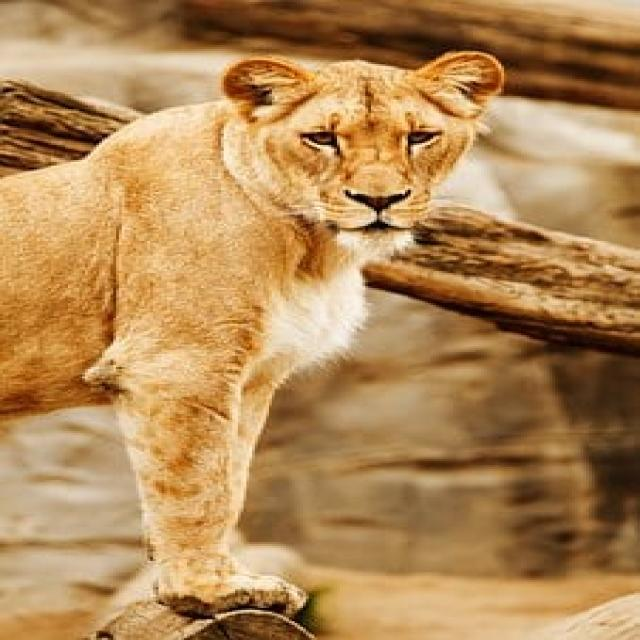Lion: (1, 52, 509, 614)
